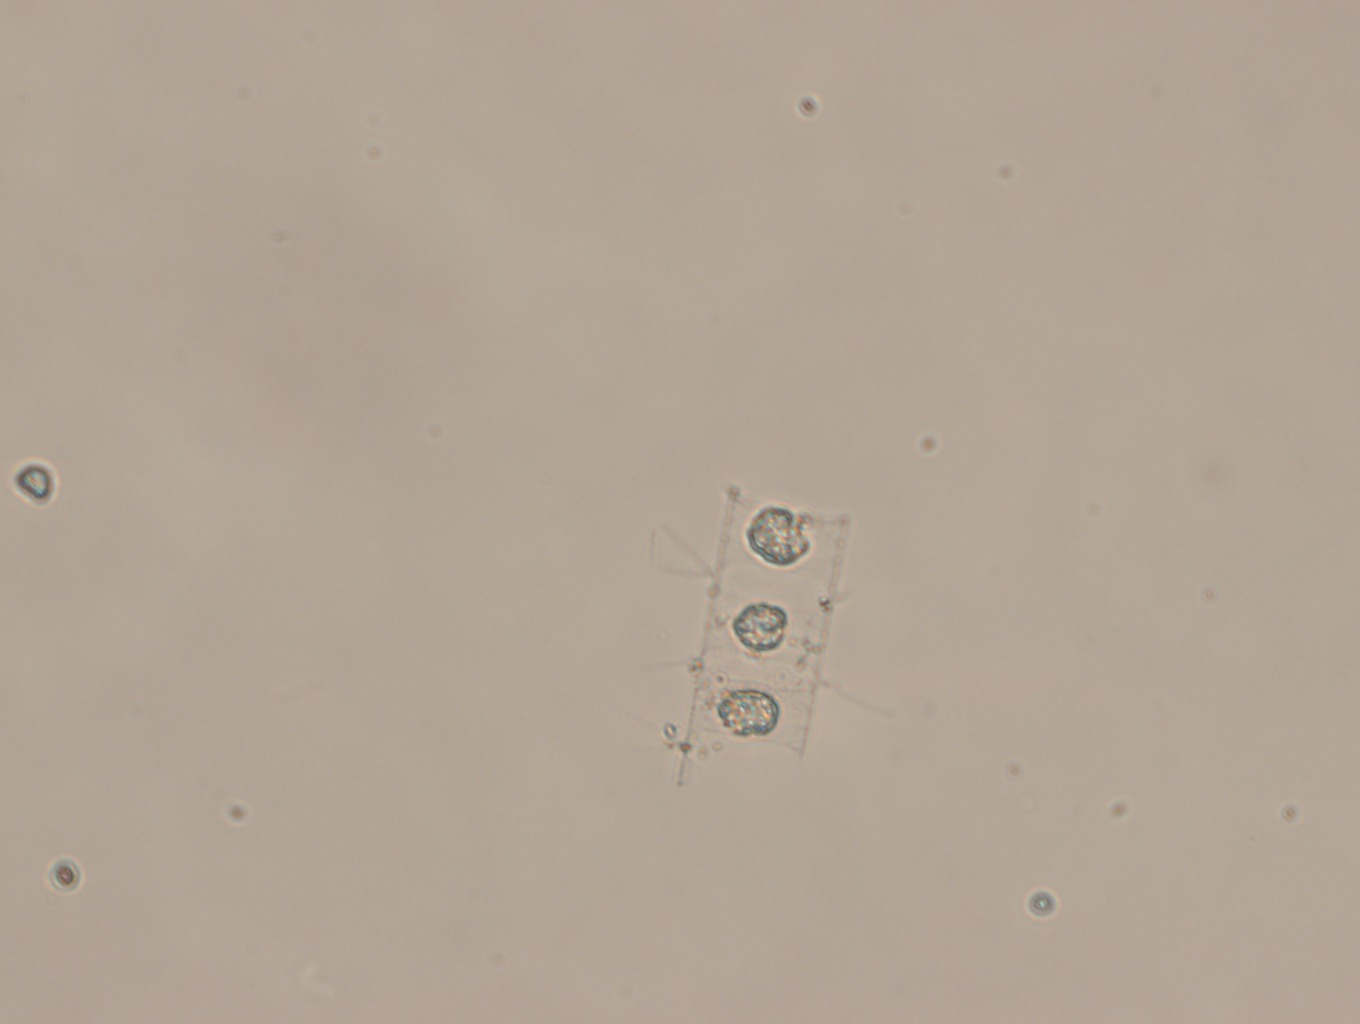chaetoceros: (617, 454, 904, 823)
